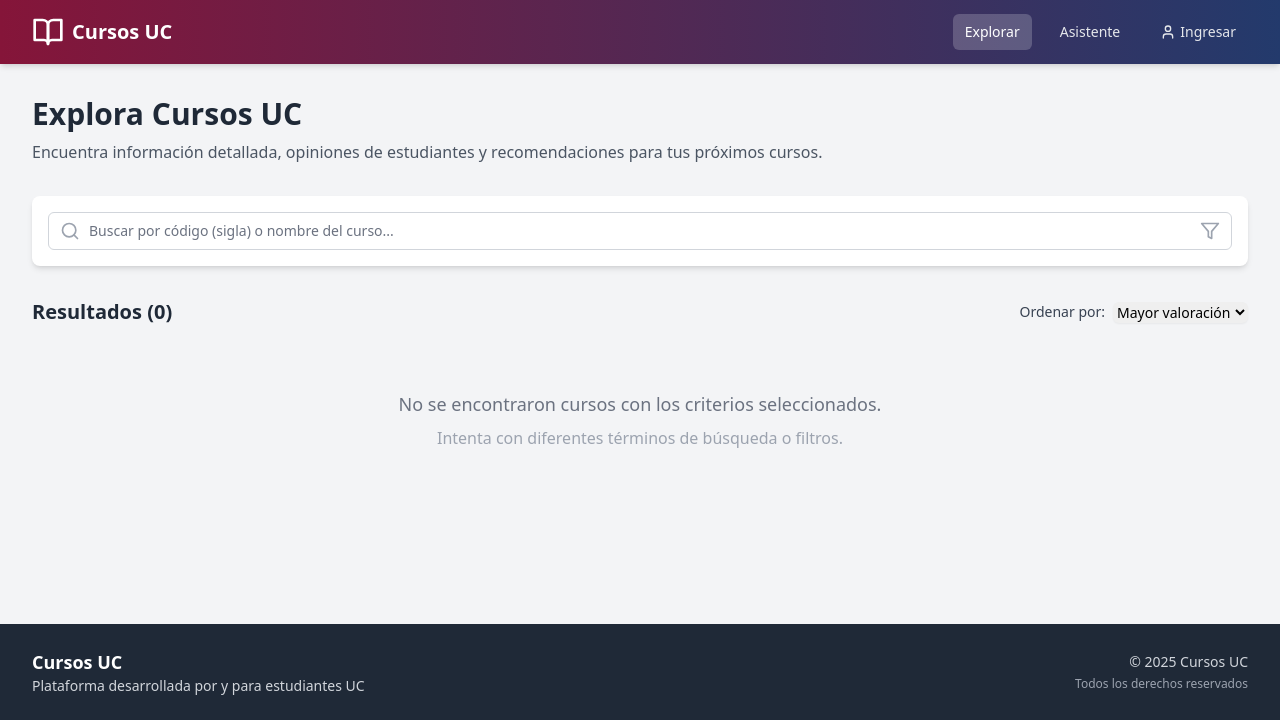
Scenario: Navigation › should navigate to login page
The width and height of the screenshot is (1280, 720).
Click the link "Ingresar": (1198, 32) [1160, 22, 1236, 41]
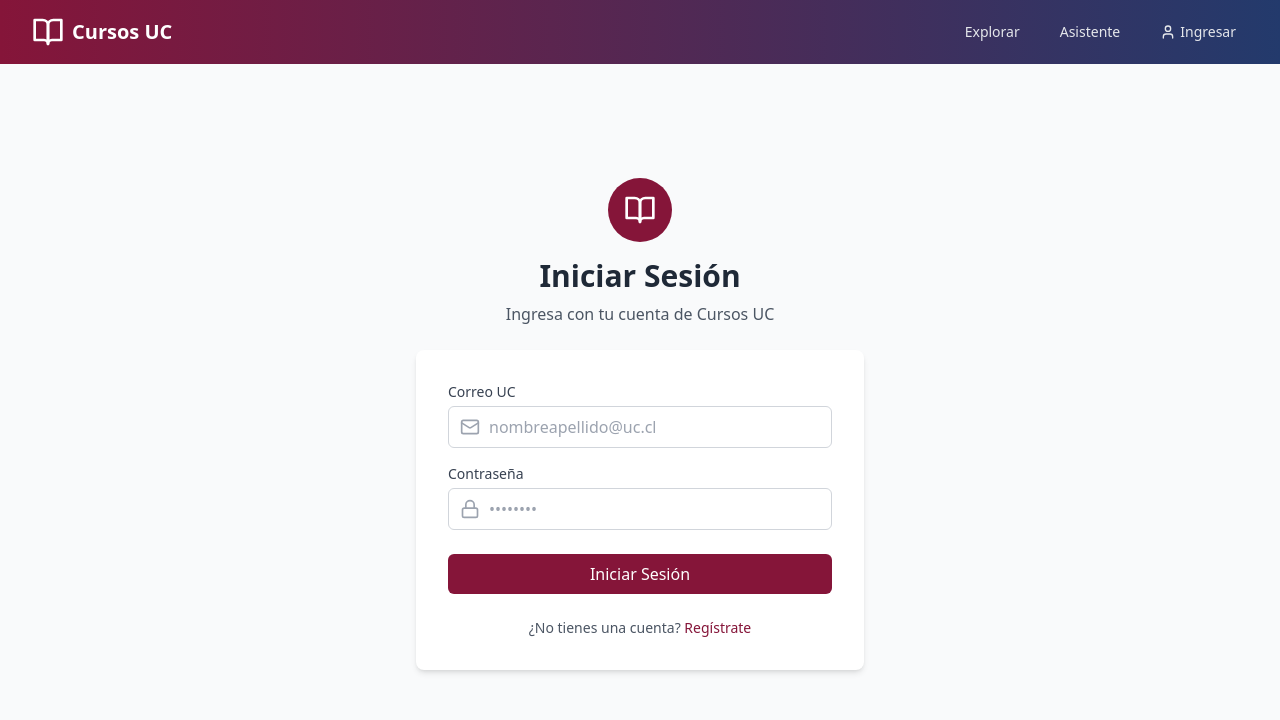
Expected: the heading "Iniciar Sesión" is shown, [539, 255, 741, 296]
